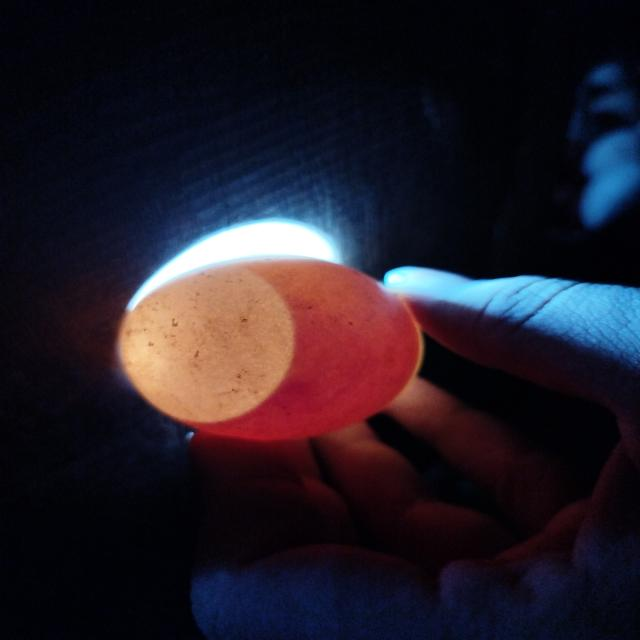Camara de Ar: (122, 262, 292, 421)
Gema Quebrada: (183, 258, 419, 440)
